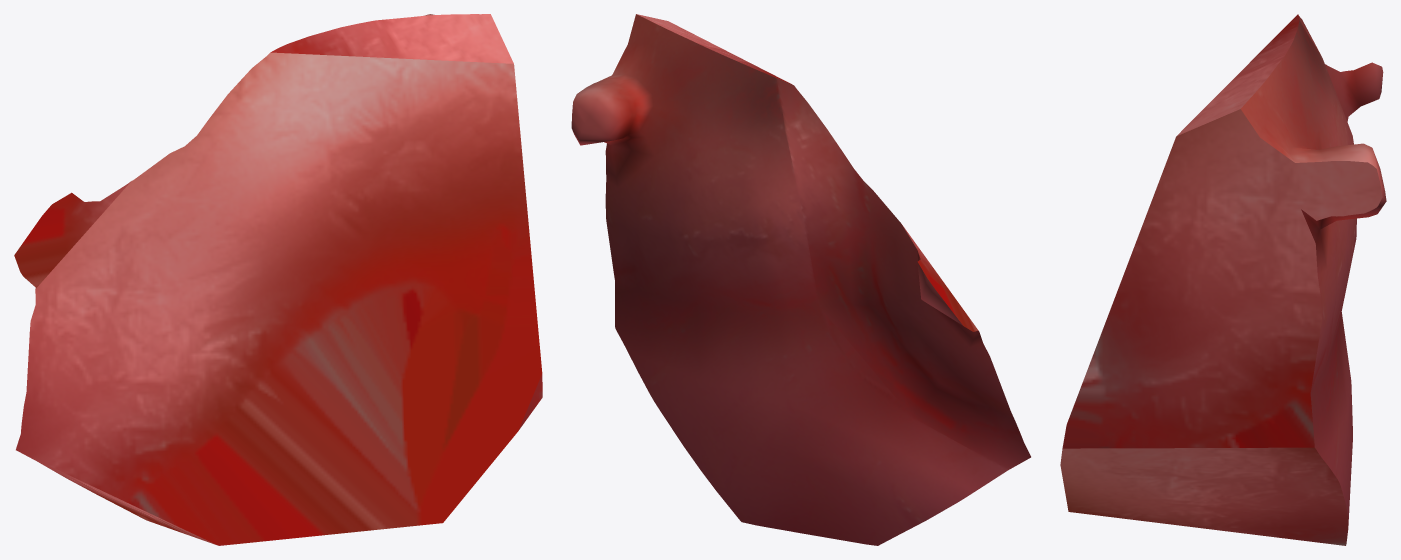
File: SM_HeartPiece_20_.FBX
3 renders of one model, left to right at view 1: azimuth 30°, elevation 25°; view 2: azimuth 150°, elevation 25°; view 3: azimuth 270°, elevation 25°, orthographic. The views are drawn at different scales.
Visible parts, largest first — view 1: SM_HeartPiece_20_; view 2: SM_HeartPiece_20_; view 3: SM_HeartPiece_20_.
Boxes of the visible parts, x1,y1,x2,y2 form: SM_HeartPiece_20_: (14,14,542,545); SM_HeartPiece_20_: (571,14,1030,545); SM_HeartPiece_20_: (1060,14,1386,545).
Size of the model in its own units: 301 by 168 by 299.
